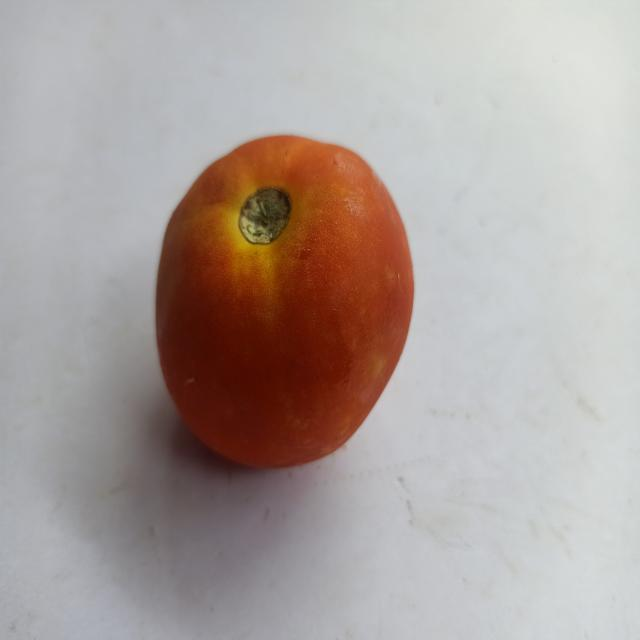Tomato: (144, 94, 433, 498)
